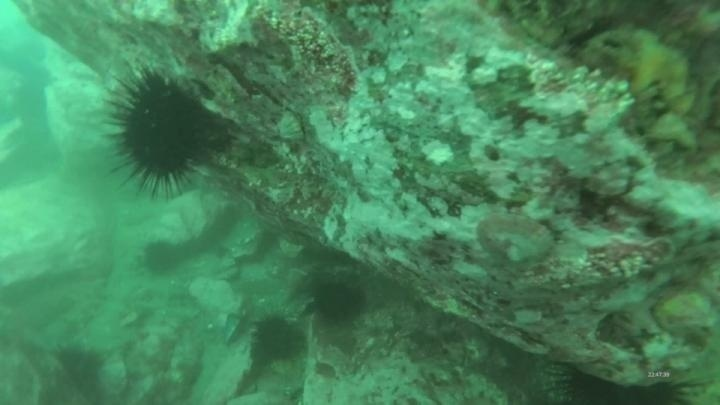echinus: (100, 65, 223, 199), (51, 342, 108, 402), (307, 274, 368, 327), (249, 312, 306, 367), (139, 237, 183, 278)
